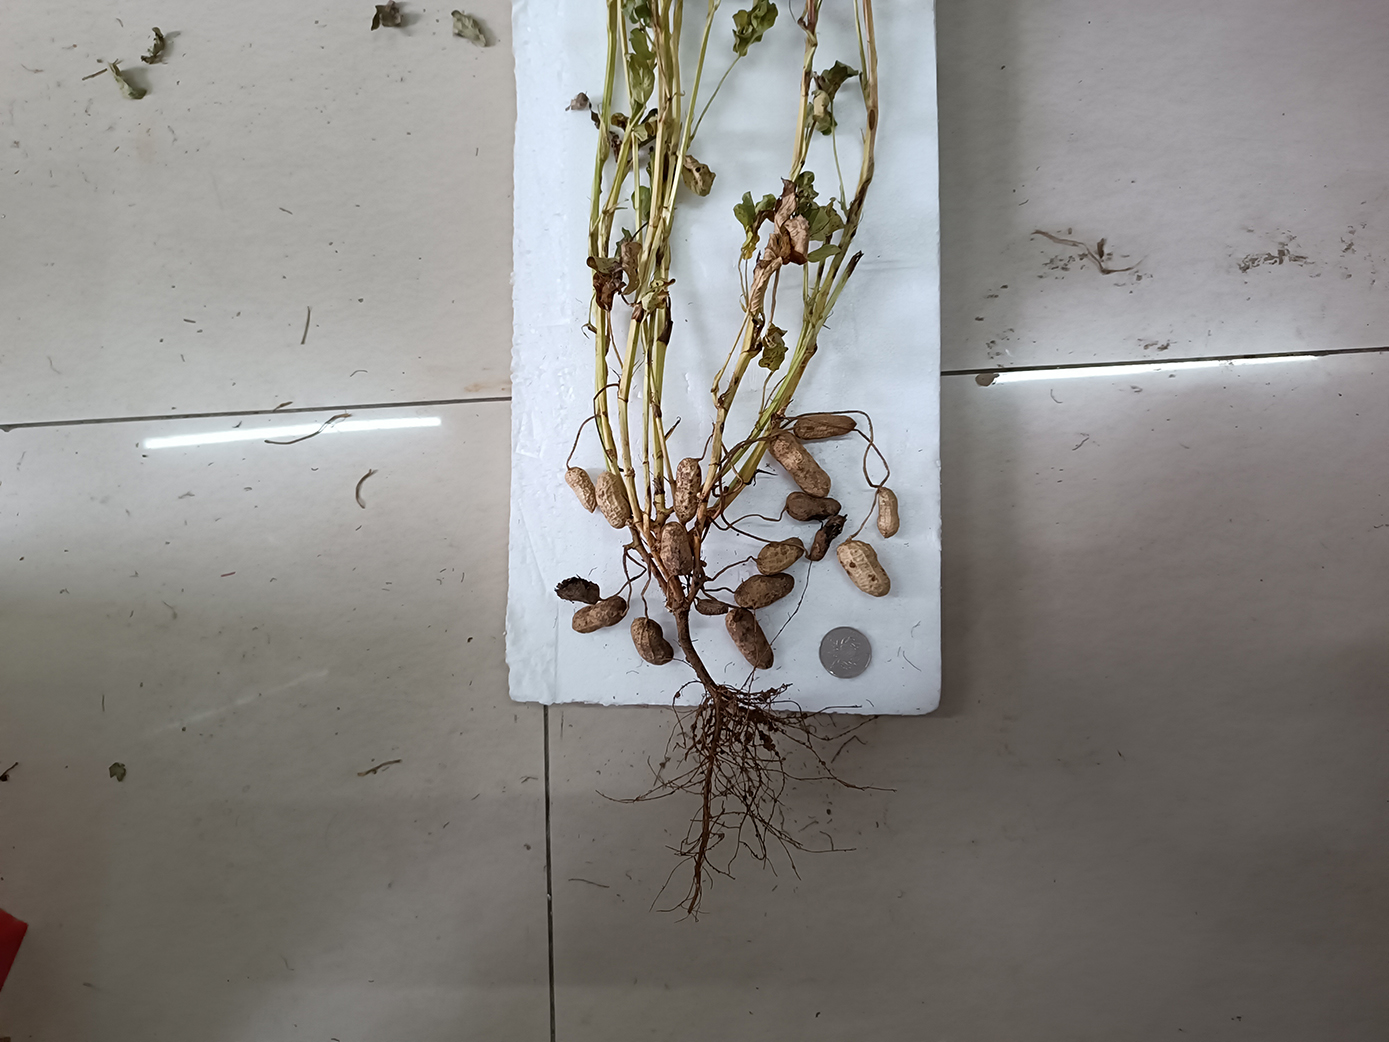h: (767, 429, 831, 498), (836, 540, 891, 597), (630, 614, 674, 665), (597, 471, 630, 529), (660, 521, 693, 575), (757, 536, 805, 574), (565, 466, 597, 514), (876, 486, 900, 539)
l: (726, 607, 774, 669), (733, 574, 795, 607), (806, 513, 848, 561), (571, 597, 628, 633), (674, 458, 702, 523), (785, 493, 842, 521), (794, 416, 857, 440), (553, 574, 599, 605), (696, 599, 729, 616)
